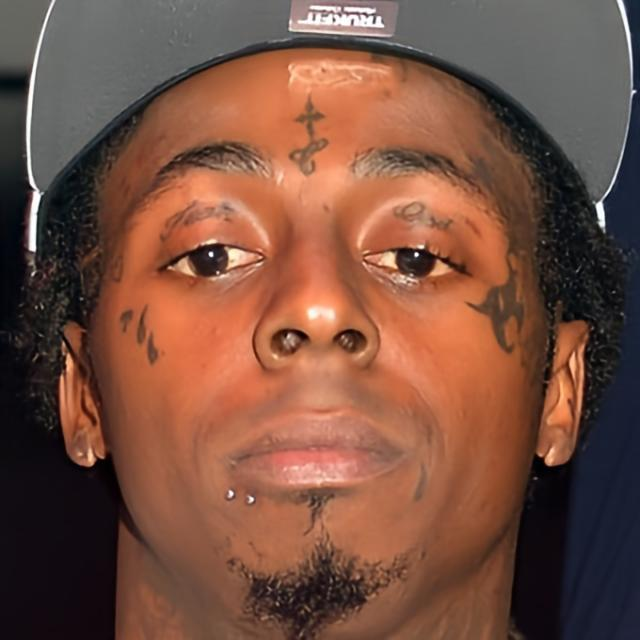neutral: (96, 44, 541, 640)
